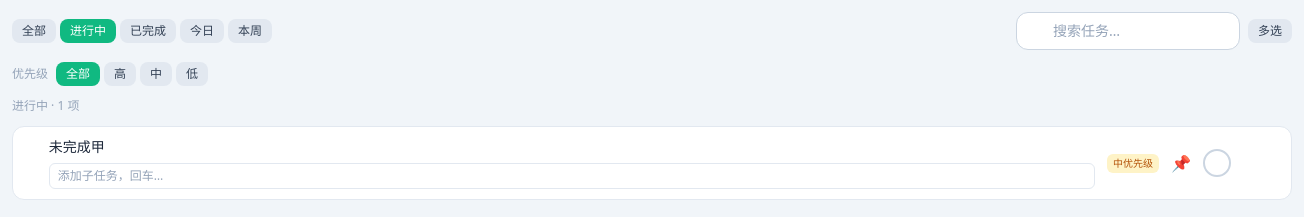
TodoList › 切换筛选 tab 过滤列表
Click the button "已完成".
click(148, 31)  # box [120,19,176,43]
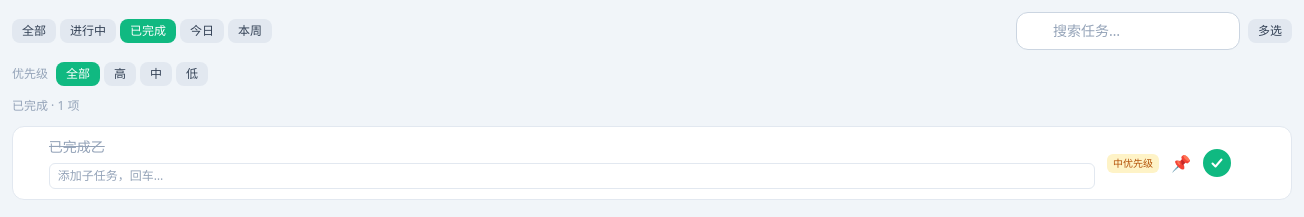
Now the list item shows "已完成乙", box [49,137,105,156]
Now the text "未完成甲" is gone
